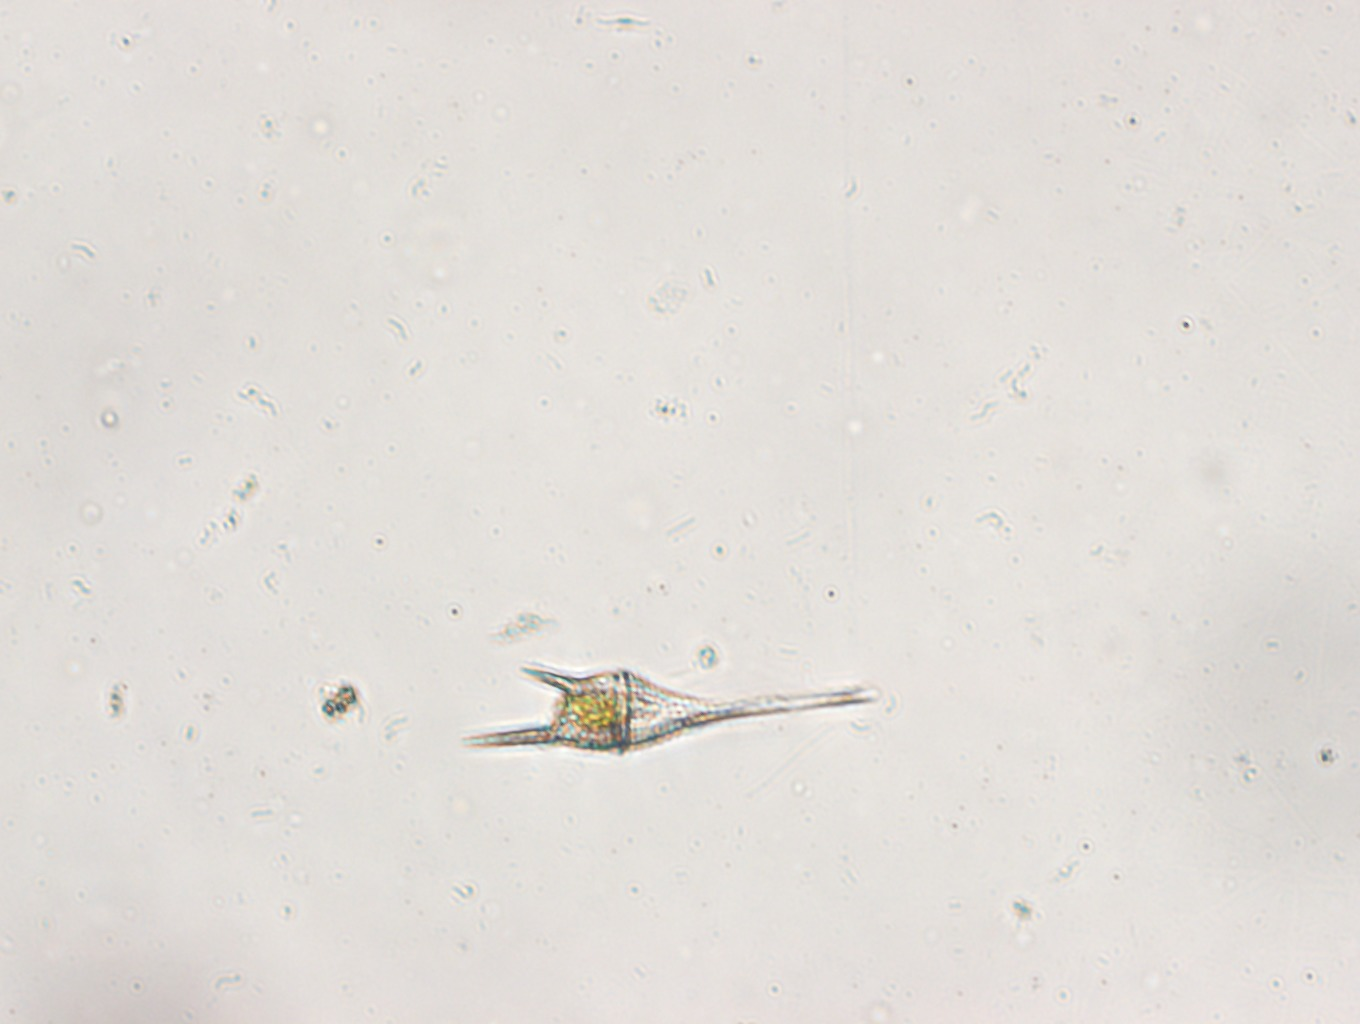ceratium furca: (460, 658, 879, 765)
